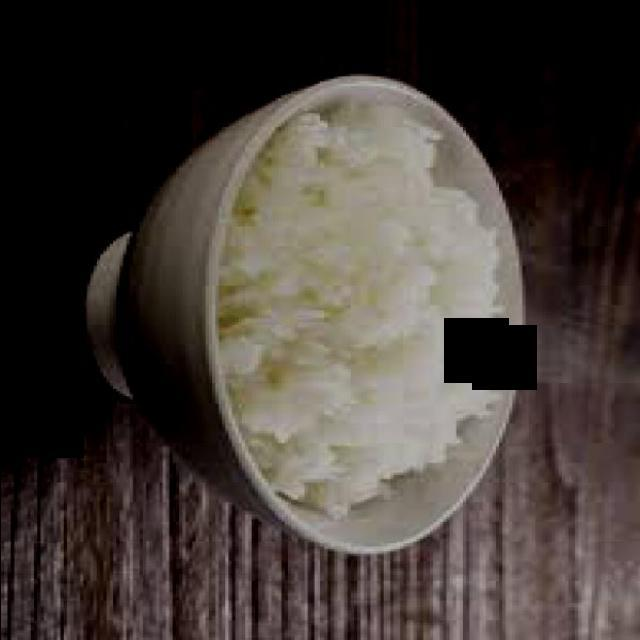rice: (218, 113, 504, 518)
